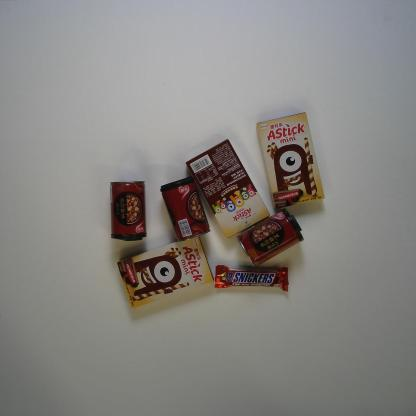Canned Food: (235, 207, 305, 268), (159, 176, 211, 242), (108, 178, 147, 243)
Chocolate: (213, 263, 290, 293)
Dessert: (184, 137, 271, 240), (116, 234, 215, 310), (256, 112, 325, 209)
